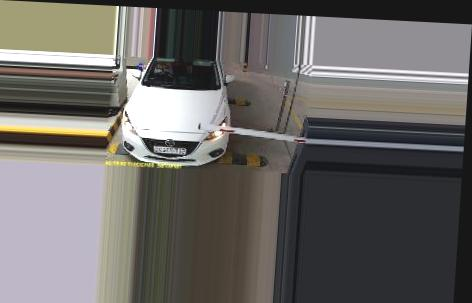License_Plate: (150, 142, 186, 158)
